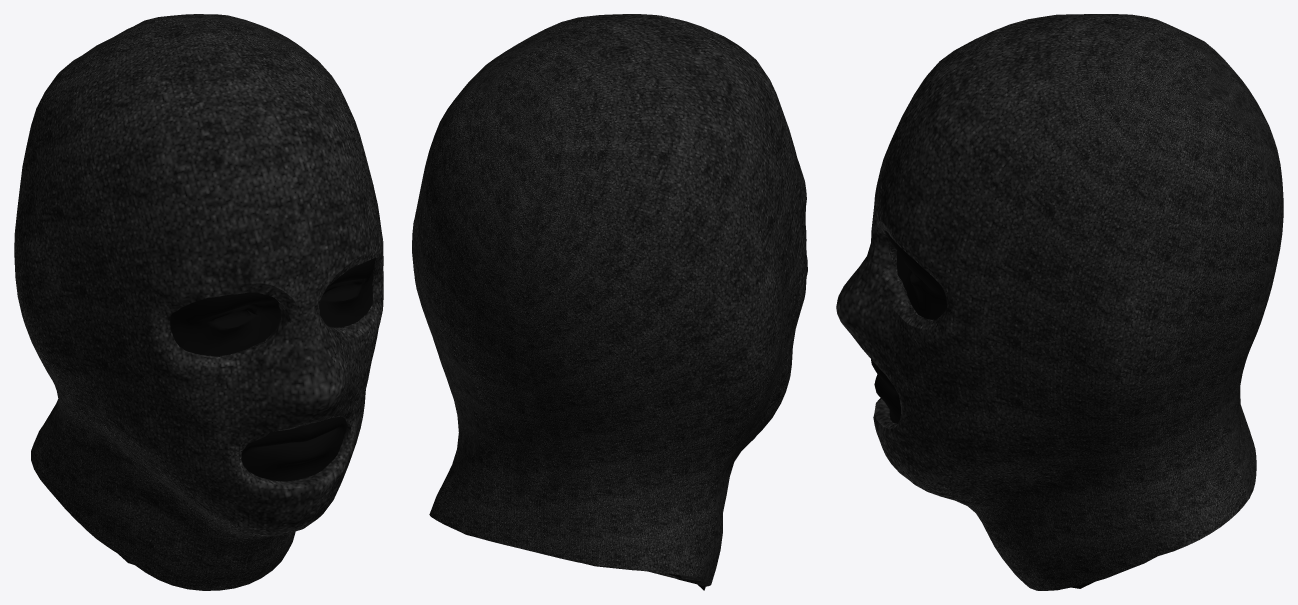
The model's file is erased_balaclava2_-_badly.glb.
3 views of the same model, side by side, from view 1: azimuth 30°, elevation 25°; view 2: azimuth 150°, elevation 25°; view 3: azimuth 270°, elevation 25° (orthographic). The views are drawn at different scales.
Parts seen in each view (by area): view 1: Object_4, Object_3; view 2: Object_4; view 3: Object_4, Object_3.
Boxes of the visible parts, x1,y1,x2,y2 form: Object_4: (14, 14, 383, 590); Object_3: (118, 258, 375, 564); Object_4: (412, 14, 807, 586); Object_4: (836, 14, 1283, 590); Object_3: (871, 230, 1249, 588).
Bounding box in the file's own units: 1.67 × 2.59 × 1.92.
Materials: 2 (1 with a texture image).
